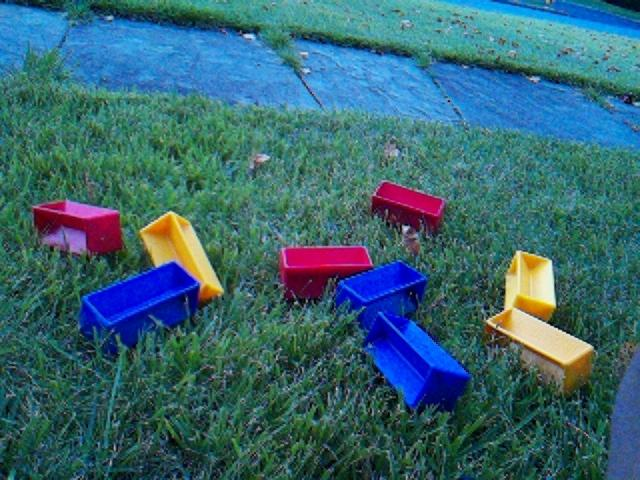blue: (77, 259, 202, 358), (361, 309, 471, 416), (332, 259, 428, 329)
red: (31, 197, 124, 258), (279, 243, 375, 302), (370, 178, 448, 236)
yellow: (483, 306, 597, 395), (138, 209, 226, 305), (503, 249, 558, 324)
